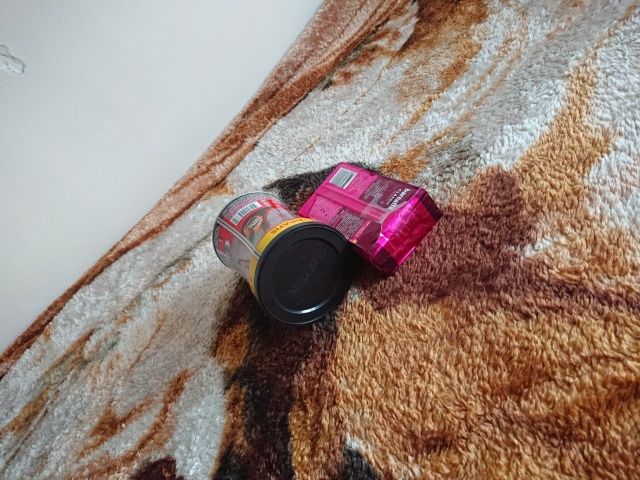Barcaffe Classic Original 225g: (294, 160, 446, 282)
Nescafe Classic 225g: (209, 189, 358, 328)
